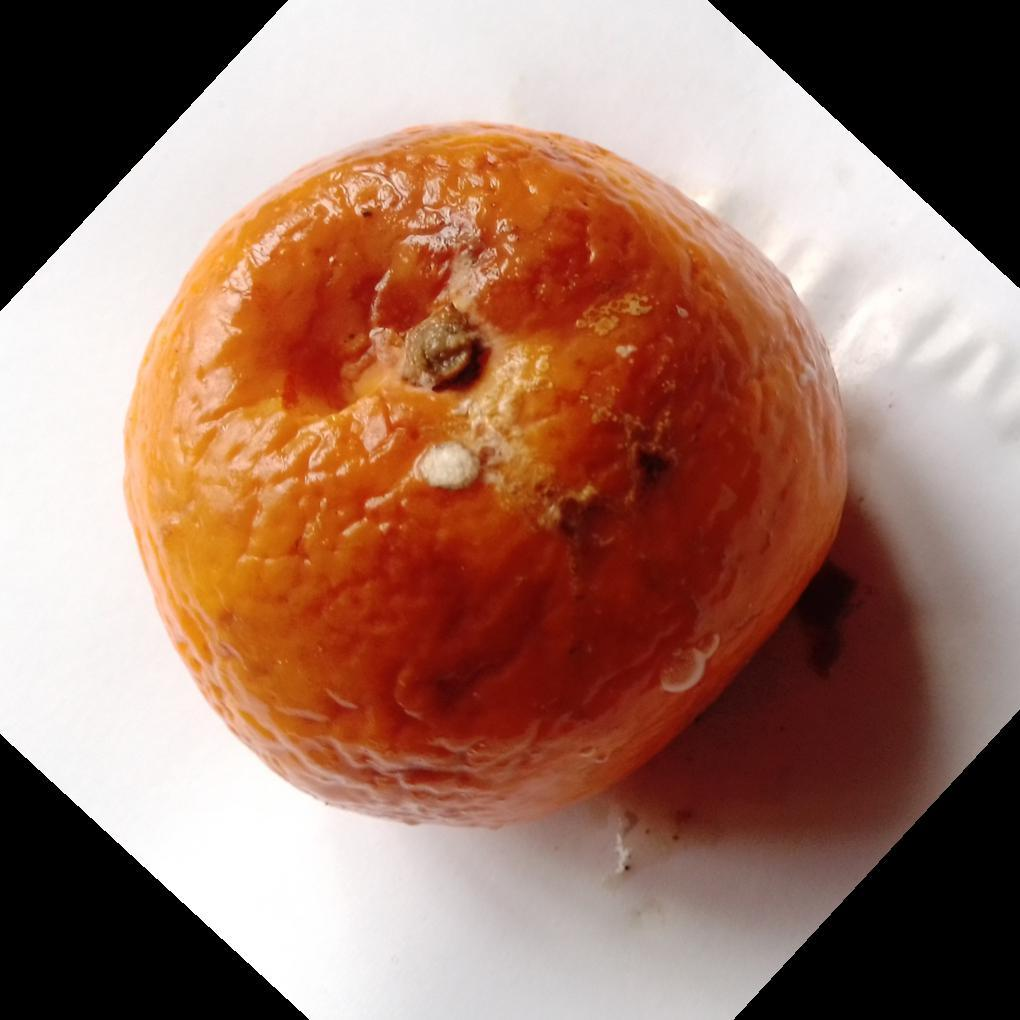FreshOrange: (120, 123, 851, 834)
